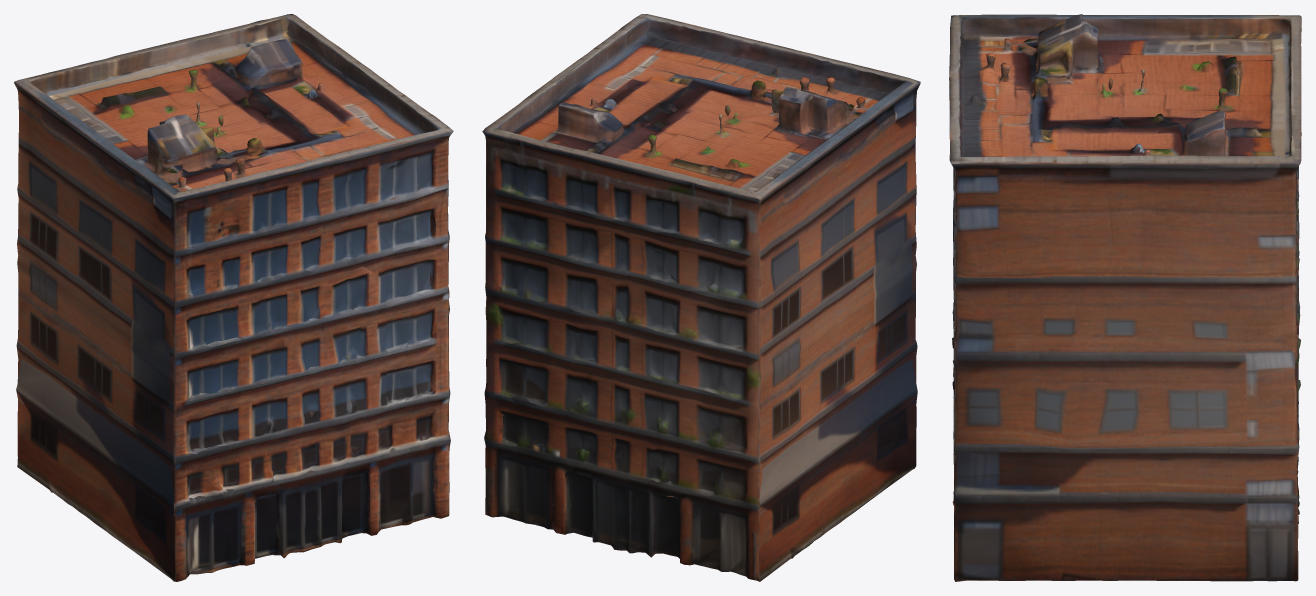
The model's file is World5280fc283a.glb.
The picture shows the model from 3 angles, left to right: view 1: azimuth 30°, elevation 25°; view 2: azimuth 150°, elevation 25°; view 3: azimuth 270°, elevation 25°; orthographic projection. The views are drawn at different scales.
Parts seen in each view (by area): view 1: World5280fc283a; view 2: World5280fc283a; view 3: World5280fc283a.
Boxes of the visible parts, box(x1,y1,x2,y2) form: World5280fc283a: box(14, 14, 453, 581); World5280fc283a: box(482, 14, 920, 581); World5280fc283a: box(949, 14, 1301, 581).
Size of the model in its own units: 5.01 by 7 by 5.01.
1 material, 1 textured.
